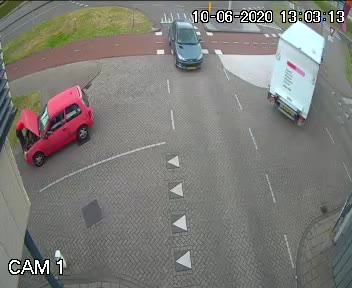car: (263, 20, 323, 127), (27, 87, 95, 157), (169, 16, 197, 77)
